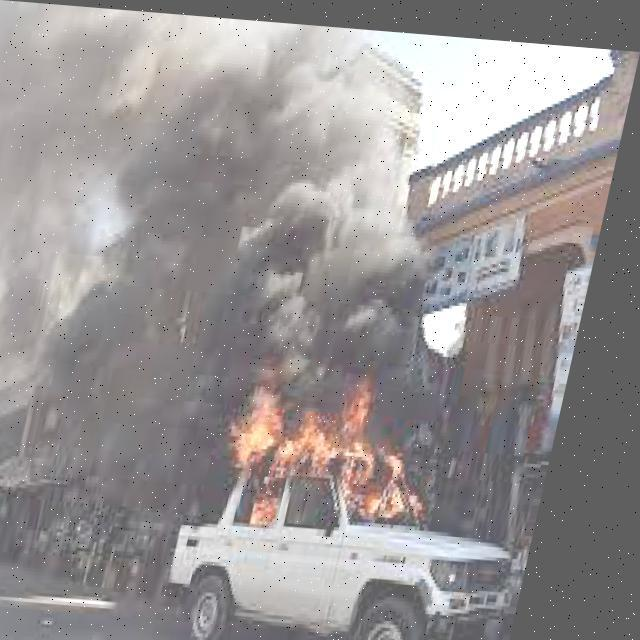Fire: (228, 346, 484, 540)
